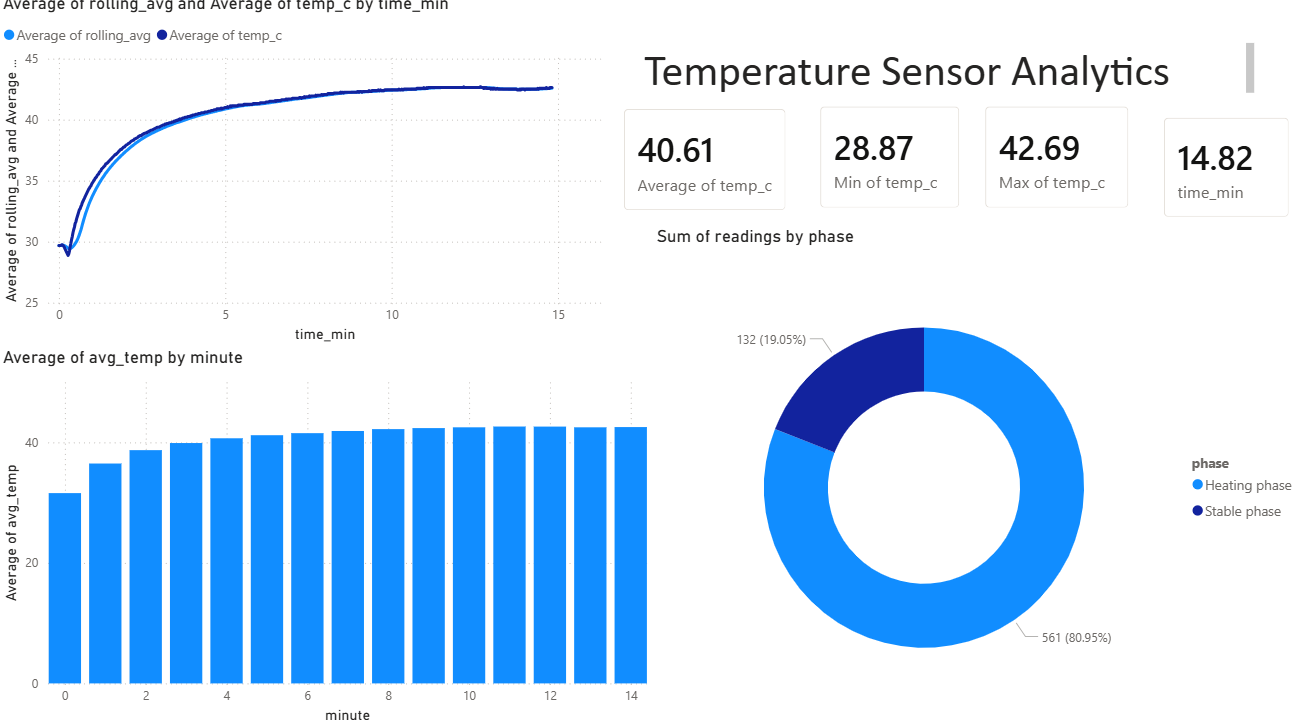

What the dashboard file says about the page in this screenshot:
{"tool":"powerbi","page":{"name":"Page 1","canvas":[1280,720],"ordinal":0},"visuals":[{"type":"lineChart","fields":{"Category":["powerbi_full_data.time_min"],"Y":["Avg(powerbi_full_data.rolling_avg)","Avg(powerbi_full_data.temp_c)"]},"box":[0,0,595.6,346.7],"z":0},{"type":"clusteredColumnChart","fields":{"Category":["powerbi_per_minute.minute"],"Y":["Avg(powerbi_per_minute.avg_temp)"]},"box":[0,346.7,640,373.3],"z":1},{"type":"cardVisual","fields":{"Data":["Avg(powerbi_full_data.temp_c)"]},"box":[595.6,96,192,133.3],"z":2},{"type":"cardVisual","fields":{"Data":["Min(powerbi_full_data.temp_c)"]},"box":[787.6,94.2,170.7,133.3],"z":3},{"type":"cardVisual","fields":{"Data":["Max(powerbi_full_data.temp_c)"]},"box":[949.3,94.2,174.2,133.3],"z":4},{"type":"cardVisual","fields":{"Data":["Max(powerbi_full_data.time_min)"]},"box":[1123.6,104.9,156.4,131.6],"z":5},{"type":"donutChart","fields":{"Category":["powerbi_phases.phase","powerbi_phases.readings"],"Y":["Sum(powerbi_phases.readings)"]},"box":[640,227.6,640,492.4],"z":6},{"type":"textbox","box":[627.6,44.4,606.2,60.4],"z":7}]}

Visuals, with their boxes in screenshot pixels (x1, y1, x2, y2), scaled from the page's 1280x720 canvas onto the 1303x722 screenshot:
lineChart - powerbi_full_data.time_min x Avg(powerbi_full_data.rolling_avg): 0,0,606,348
clusteredColumnChart - powerbi_per_minute.minute x Avg(powerbi_per_minute.avg_temp): 0,348,652,721
cardVisual - Avg(powerbi_full_data.temp_c): 606,96,802,230
cardVisual - Min(powerbi_full_data.temp_c): 802,94,976,228
cardVisual - Max(powerbi_full_data.temp_c): 966,94,1144,228
cardVisual - Max(powerbi_full_data.time_min): 1144,105,1302,237
donutChart - powerbi_phases.phase x powerbi_phases.readings: 652,228,1302,721
textbox: 639,45,1256,105
